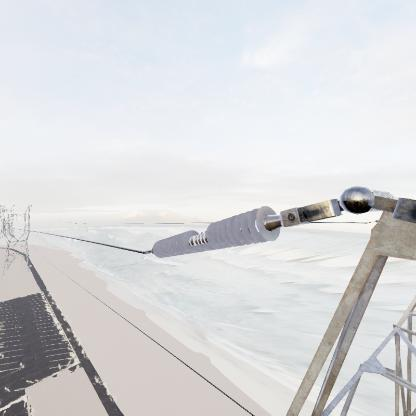insulator: (149, 204, 284, 258)
